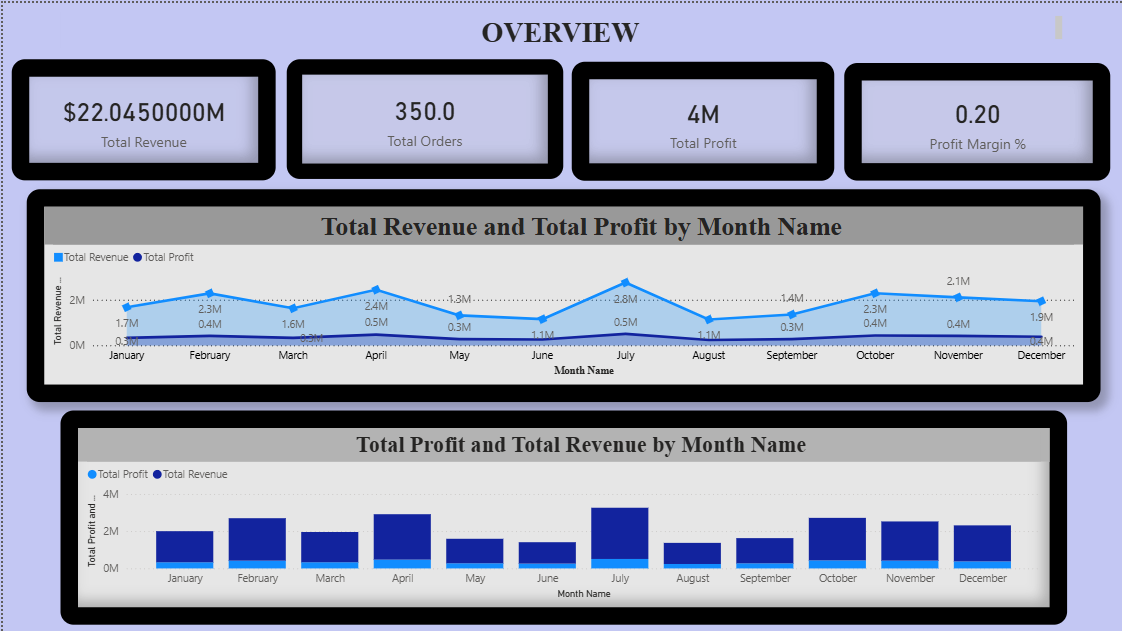

Layout of this report page (visuals, bound fields, positions):
{"tool":"powerbi","page":{"name":"OVERVIEW","canvas":[1280,720],"ordinal":0},"visuals":[{"type":"card","fields":{"Values":["Sales_Data_FIXED.Total Revenue"]},"box":[10,64.3,301.4,138.6],"z":0},{"type":"card","fields":{"Values":["Sales_Data_FIXED.Total Profit"]},"box":[12.2,236,299.6,135.7],"z":1000},{"type":"card","fields":{"Values":["Sales_Data_FIXED.Profit Margin %"]},"box":[328.9,236,304.5,135.7],"z":2000},{"type":"card","fields":{"Values":["Sales_Data_FIXED.Total Orders"]},"box":[324.3,64.3,315.7,137.1],"z":3000},{"type":"lineChart","fields":{"Y":["Sales_Data_FIXED.Total Revenue","Sales_Data_FIXED.Total Profit"],"Category":["Sales_Data_FIXED.Month Name"]},"box":[20.8,404.8,835.2,315.5],"z":4000},{"type":"columnChart","fields":{"Category":["Sales_Data_FIXED.Month Name"],"Y":["Sales_Data_FIXED.Total Profit","Sales_Data_FIXED.Total Revenue"]},"box":[653,64.8,627.3,306.9],"z":5000},{"type":"textbox","box":[65.7,10,1150,41.4],"z":6000},{"type":"textbox","box":[886.6,404.8,379.1,298.4],"z":6001}]}

Visuals, with their boxes in screenshot pixels (x1, y1, x2, y2), scaled from the page's 1280x720 canvas onto the 1122x631 screenshot:
card - Sales_Data_FIXED.Total Revenue: rect(9, 56, 273, 178)
card - Sales_Data_FIXED.Total Profit: rect(11, 207, 273, 326)
card - Sales_Data_FIXED.Profit Margin %: rect(288, 207, 555, 326)
card - Sales_Data_FIXED.Total Orders: rect(284, 56, 561, 177)
lineChart - Sales_Data_FIXED.Total Revenue x Sales_Data_FIXED.Total Profit: rect(18, 355, 750, 630)
columnChart - Sales_Data_FIXED.Month Name x Sales_Data_FIXED.Total Profit: rect(572, 57, 1121, 326)
textbox: rect(58, 9, 1066, 45)
textbox: rect(777, 355, 1109, 616)
